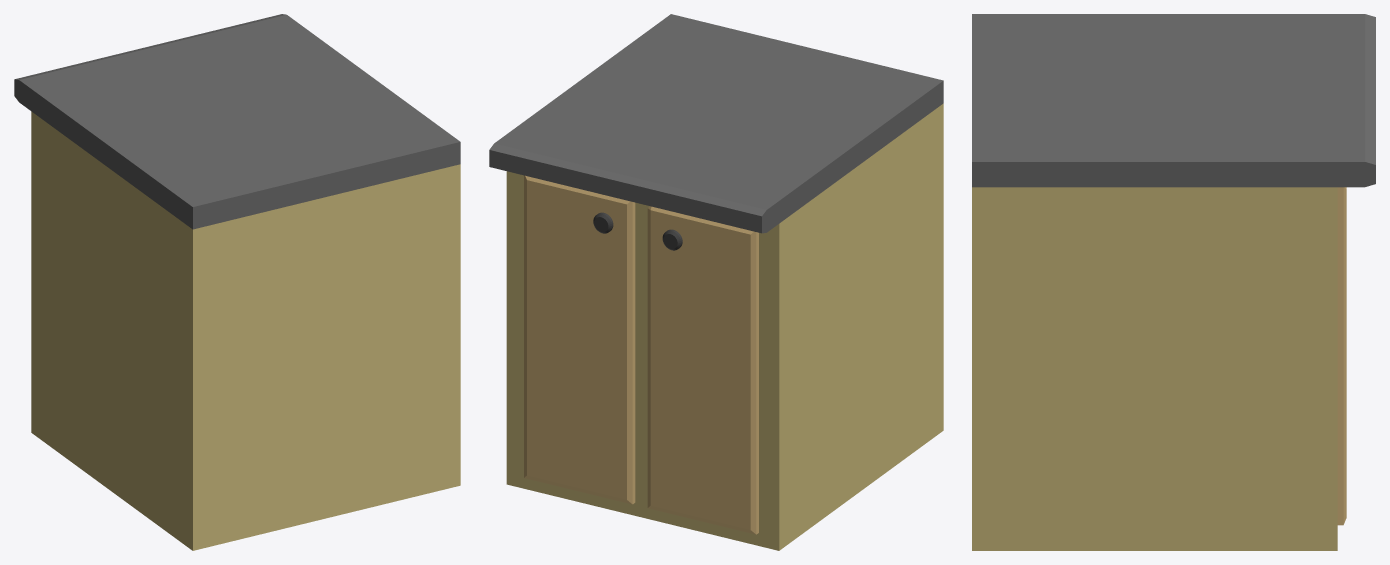
Rendered from dwarer.fbx.
3 views of the same model, side by side, from view 1: azimuth 30°, elevation 25°; view 2: azimuth 150°, elevation 25°; view 3: azimuth 270°, elevation 25° (orthographic). The views are drawn at different scales.
Visible parts, largest first — view 1: Cube; view 2: Cube, Cube.001, Cylinder; view 3: Cube, Cube.001.
Part boxes in pixels (x1,y1,x2,y2): Cube: (14,14,460,550); Cube: (489,14,943,550); Cube.001: (524,175,758,534); Cylinder: (593,212,682,250); Cube: (972,14,1375,550); Cube.001: (1337,187,1346,525).
Size of the model in its own units: 1375 by 1687 by 1587.
